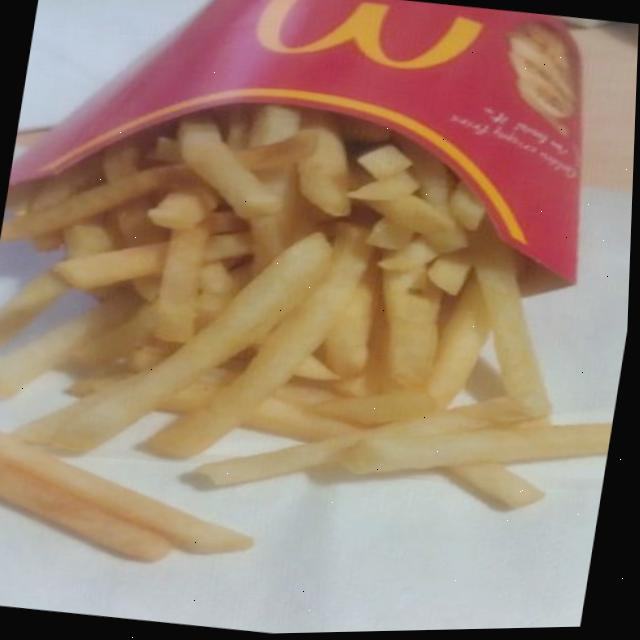炸货点心: (0, 51, 638, 632)
